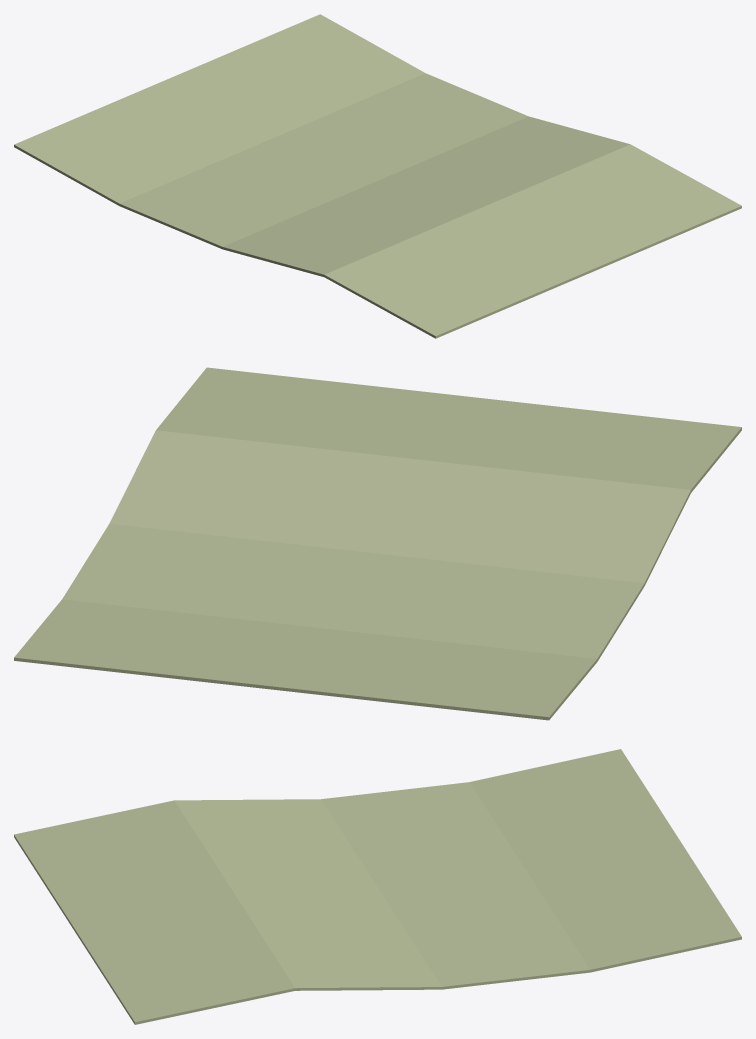
Rendered from Bedroom3_Paper.fbx.
3 renders of one model, top to bottom at view 1: azimuth 30°, elevation 25°; view 2: azimuth 150°, elevation 25°; view 3: azimuth 270°, elevation 25°, orthographic. The views are drawn at different scales.
Visible parts, largest first — view 1: Bedroom3_Paper; view 2: Bedroom3_Paper; view 3: Bedroom3_Paper.
Boxes of the visible parts, box(x1,y1,x2,y2) form: Bedroom3_Paper: box(14, 14, 741, 338); Bedroom3_Paper: box(14, 367, 741, 720); Bedroom3_Paper: box(14, 749, 741, 1024).
Bounding box in the file's own units: 48.63 × 1.62 × 58.07.
